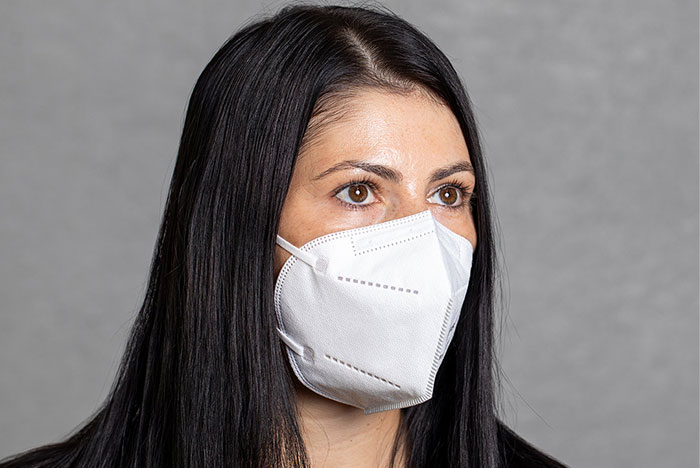with_mask: (203, 113, 474, 430)
